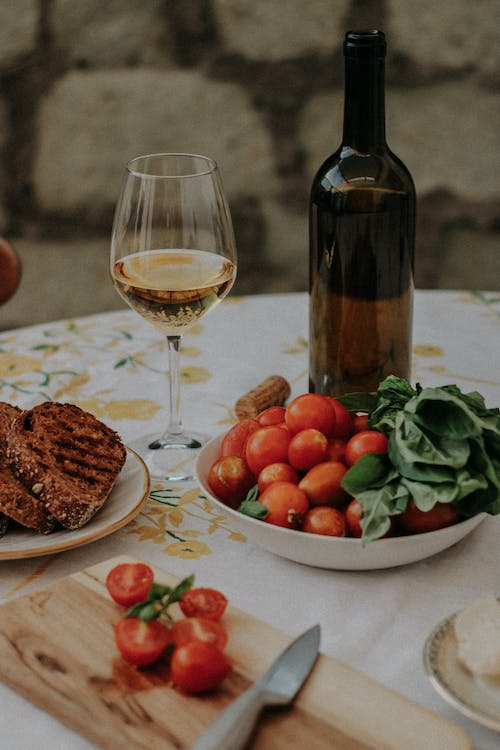alcohol: (109, 150, 240, 481), (307, 24, 419, 393)
knife: (184, 619, 327, 750)
